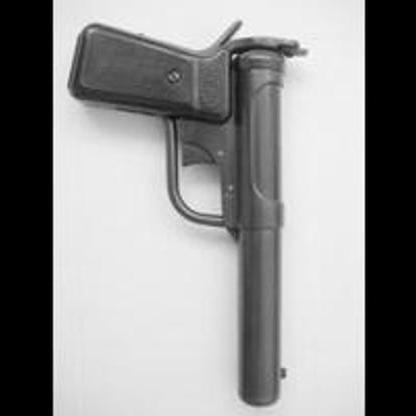weapon: (69, 10, 310, 409)
